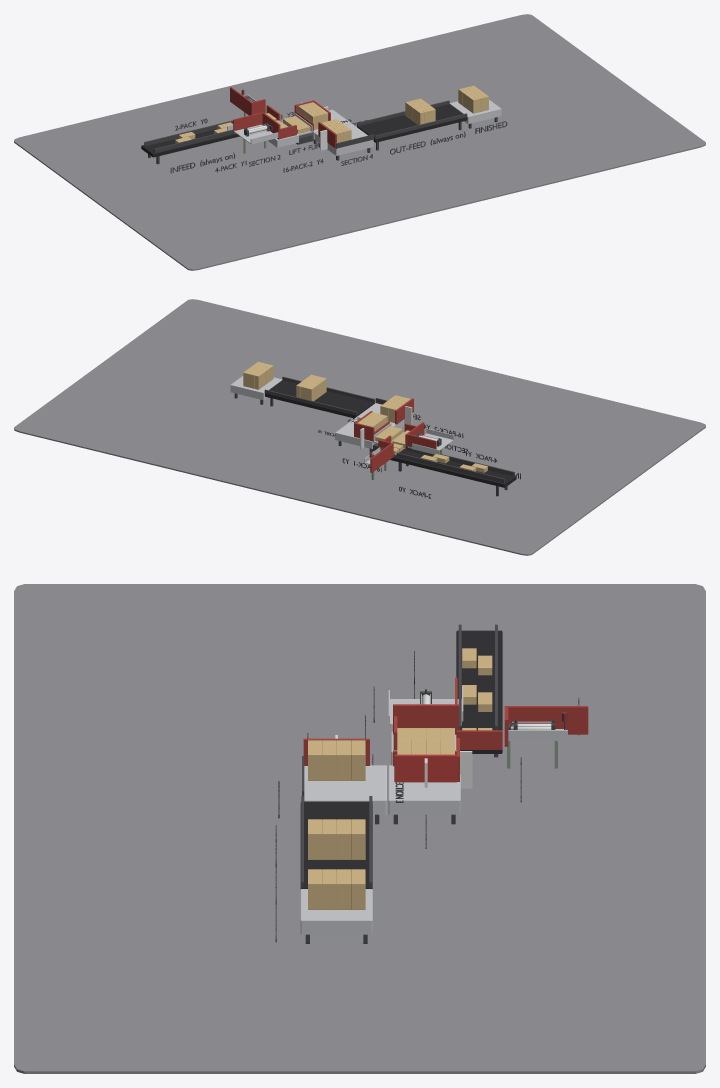
File: pack-machine.glb
3 renders of one model, top to bottom at view 1: azimuth 30°, elevation 25°; view 2: azimuth 150°, elevation 25°; view 3: azimuth 270°, elevation 25°, orthographic. The views are drawn at different scales.
Parts seen in each view (by area): view 1: Floor, OutfeedBed, InfeedBed, Sec4Deck, FinishedDeck, InfeedRailS, OutfeedRailS; view 2: Floor, OutfeedBed, InfeedBed, InfeedRailN, FinishedDeck, Sec3Deck, InfeedRailS, OutfeedRailN; view 3: Floor, InfeedBed, OutfeedBed, Sec3Deck, Sec4Deck, FinishedDeck, Push16aPlateHold, Push2EntryGate, Push4Plate, EndStop.
Part boxes in pixels (x1,y1,x2,y2): Floor: (14, 14, 705, 270); OutfeedBed: (357, 104, 467, 142); InfeedBed: (141, 129, 239, 157); Sec4Deck: (314, 123, 373, 155); FinishedDeck: (449, 99, 501, 123); InfeedRailS: (153, 129, 233, 153); OutfeedRailS: (374, 113, 467, 139); Floor: (14, 299, 705, 555); OutfeedBed: (265, 380, 374, 418); InfeedBed: (390, 448, 516, 487); InfeedRailN: (396, 452, 504, 483); FinishedDeck: (230, 376, 282, 400); Sec3Deck: (335, 419, 375, 448); InfeedRailS: (406, 446, 514, 476); OutfeedRailN: (264, 389, 357, 415); Floor: (14, 584, 705, 1073); InfeedBed: (456, 630, 502, 753); OutfeedBed: (300, 801, 372, 888); Sec3Deck: (388, 765, 460, 814); Sec4Deck: (304, 765, 386, 814); FinishedDeck: (300, 889, 372, 934); Push16aPlateHold: (394, 754, 456, 782); Push2EntryGate: (505, 706, 588, 734); Push4Plate: (393, 704, 459, 734); EndStop: (456, 730, 502, 749).
Size of the model in its own units: 40 by 2.21 by 24.
